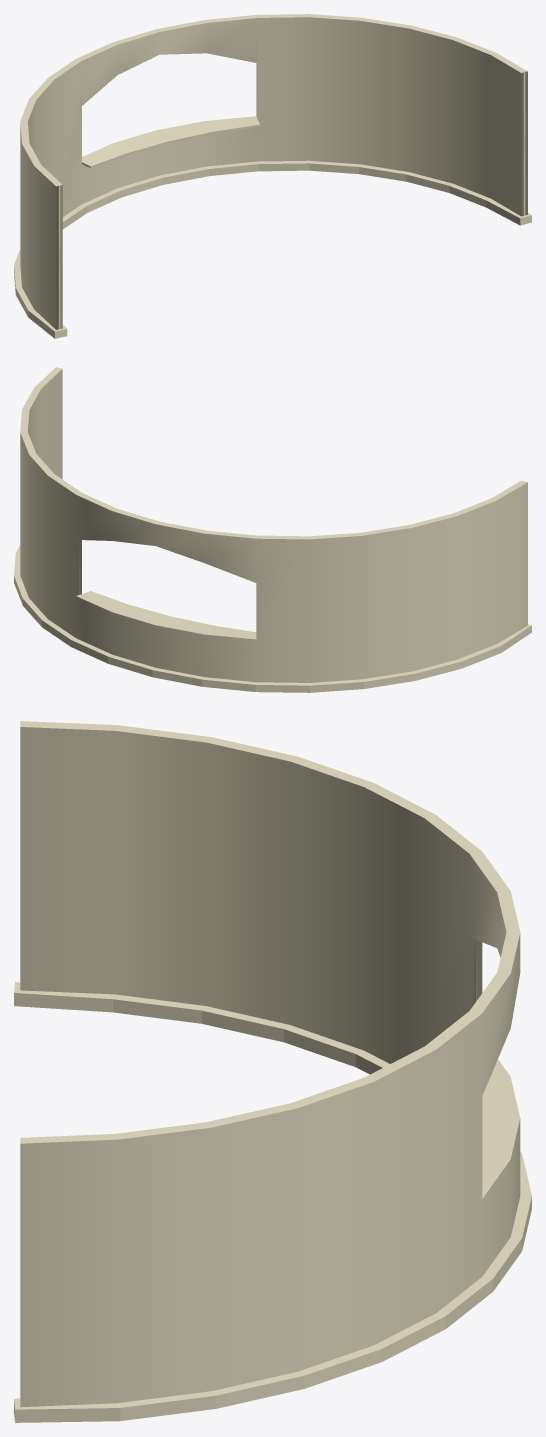
File: wall.fbx
The picture shows the model from 3 angles, top to bottom: view 1: azimuth 30°, elevation 25°; view 2: azimuth 150°, elevation 25°; view 3: azimuth 270°, elevation 25°; orthographic projection. The views are drawn at different scales.
Visible parts, largest first — view 1: wall; view 2: wall; view 3: wall.
Boxes of the visible parts, <box> form: wall: <box>14,14,531,338</box>; wall: <box>14,367,531,692</box>; wall: <box>14,721,531,1422</box>.
Size of the model in its own units: 1976 by 596 by 1012.
